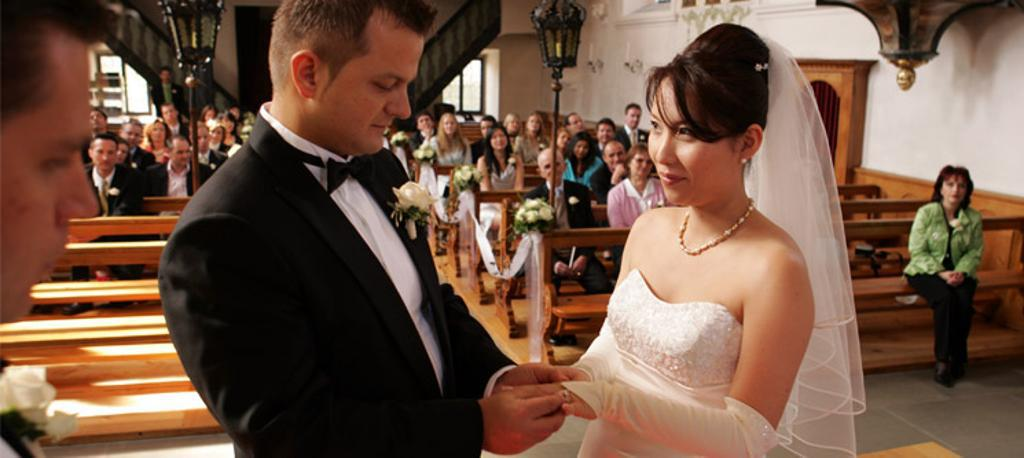face: (17, 28, 100, 326), (318, 23, 427, 157), (648, 85, 743, 204), (92, 140, 118, 170), (542, 154, 565, 185), (943, 176, 967, 205), (606, 145, 627, 172), (631, 151, 652, 178), (123, 125, 141, 148), (172, 143, 190, 166), (491, 129, 509, 150), (90, 110, 106, 130), (598, 124, 614, 143), (574, 139, 589, 159), (195, 129, 209, 150), (151, 125, 167, 143), (113, 146, 128, 165), (163, 105, 178, 123), (481, 121, 495, 139), (570, 116, 584, 133), (418, 115, 431, 133), (558, 131, 571, 149), (628, 110, 641, 128), (209, 128, 223, 144), (507, 116, 520, 132), (222, 118, 234, 135), (528, 116, 541, 131), (445, 117, 456, 134), (205, 110, 218, 124), (229, 107, 241, 122), (162, 70, 171, 83)
